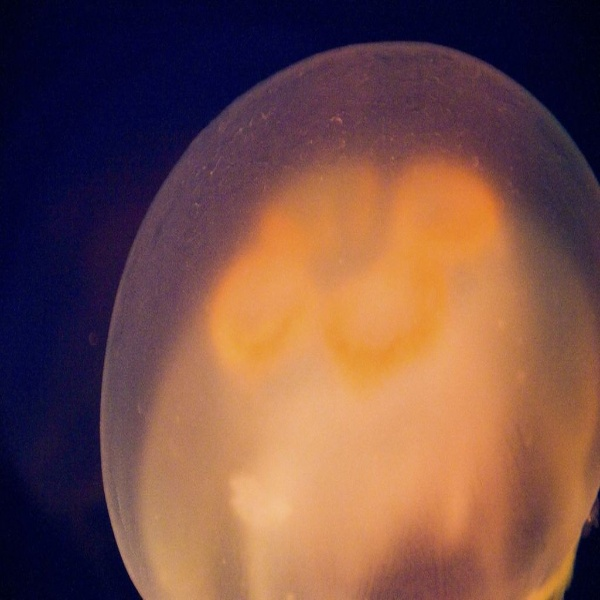Jellyfish: (96, 34, 599, 599)
